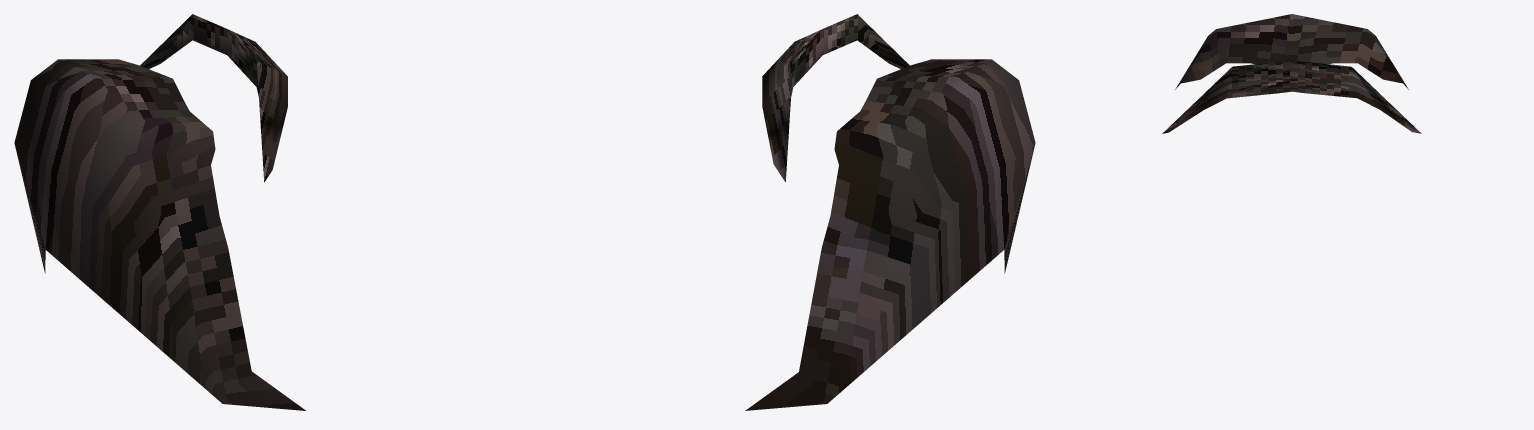
File: IR_Beard01.glb
3 renders of one model, left to right at view 1: azimuth 30°, elevation 25°; view 2: azimuth 150°, elevation 25°; view 3: azimuth 270°, elevation 25°, orthographic. The views are drawn at different scales.
Visible parts, largest first — view 1: IR_BEARD01; view 2: IR_BEARD01; view 3: IR_BEARD01.
Part boxes in pixels (bbox=[...]): IR_BEARD01: bbox=[14, 14, 305, 410]; IR_BEARD01: bbox=[745, 14, 1035, 410]; IR_BEARD01: bbox=[1162, 14, 1421, 133].
Size of the model in its own units: 0.137 by 0.117 by 0.168.
1 material, 1 textured.
